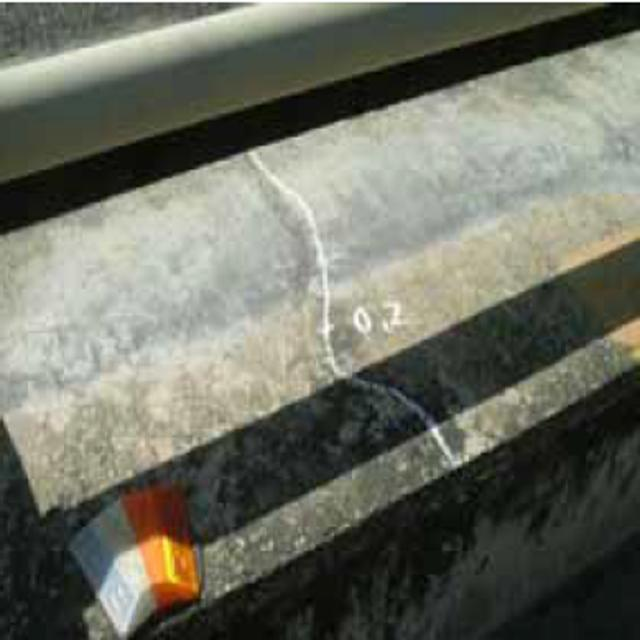crack: (243, 152, 466, 467)
